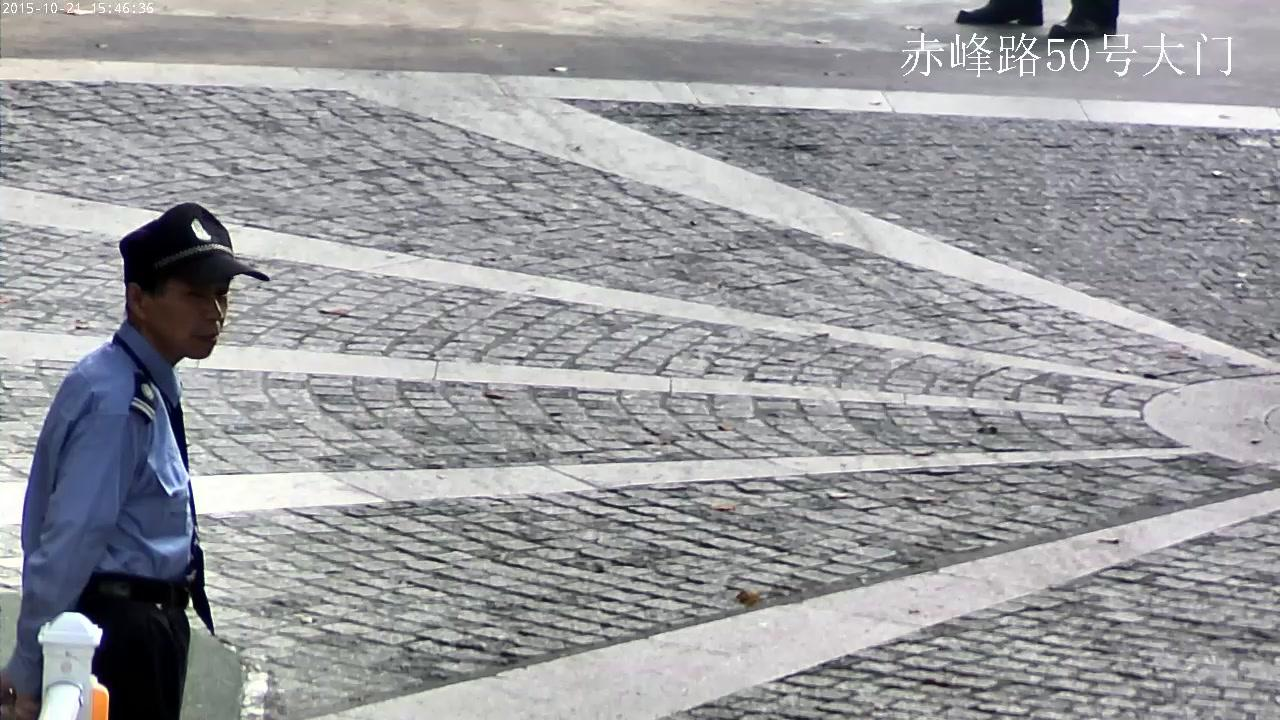face: (148, 273, 228, 358)
